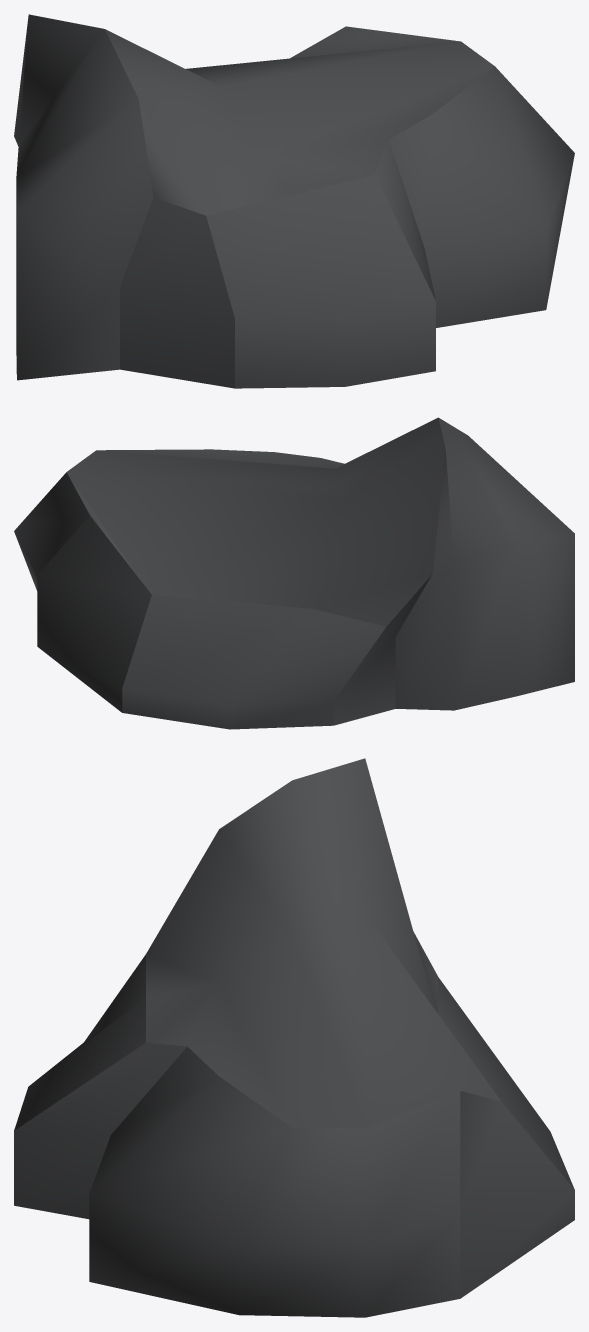
The model's file is Rock 3 Textured.FBX.
The picture shows the model from 3 angles, top to bottom: view 1: azimuth 30°, elevation 25°; view 2: azimuth 150°, elevation 25°; view 3: azimuth 270°, elevation 25°; orthographic projection. The views are drawn at different scales.
Visible parts, largest first — view 1: Rock 3; view 2: Rock 3; view 3: Rock 3.
Part boxes in pixels (bbox=[...]): Rock 3: bbox=[14, 14, 574, 388]; Rock 3: bbox=[14, 417, 574, 729]; Rock 3: bbox=[14, 758, 574, 1317].
Bounding box in the file's own units: 6.69 × 3.32 × 5.28.
Materials: 1 (1 with a texture image).
